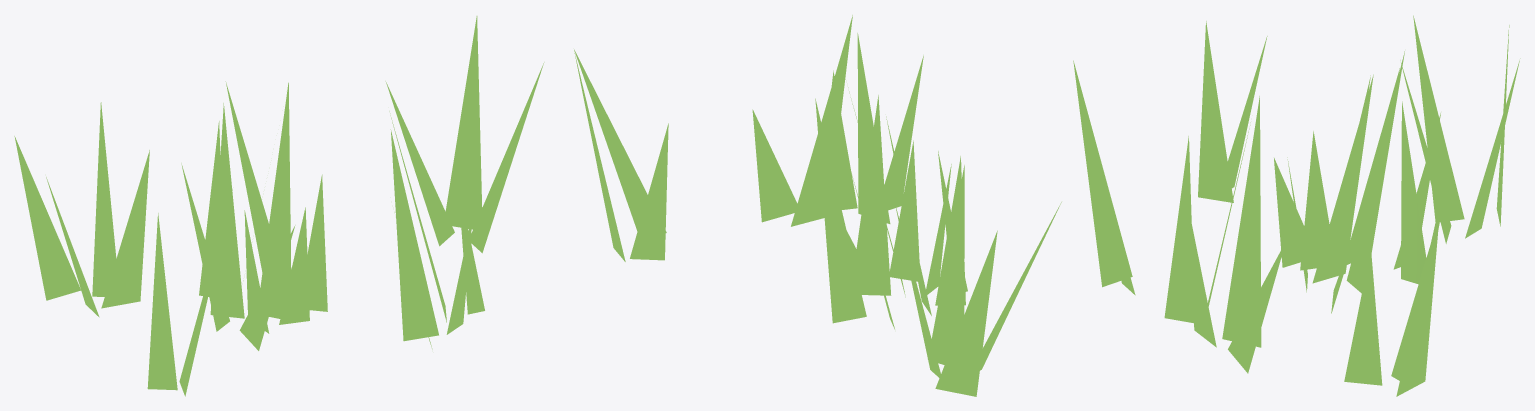
Rendered from Grass_c_TwoS_07.fbx.
3 renders of one model, left to right at view 1: azimuth 30°, elevation 25°; view 2: azimuth 150°, elevation 25°; view 3: azimuth 270°, elevation 25°, orthographic. The views are drawn at different scales.
Visible parts, largest first — view 1: Grass_c_TwoS_07; view 2: Grass_c_TwoS_07; view 3: Grass_c_TwoS_07.
Part boxes in pixels (bbox=[...]): Grass_c_TwoS_07: bbox=[14, 16, 544, 396]; Grass_c_TwoS_07: bbox=[574, 15, 1135, 396]; Grass_c_TwoS_07: bbox=[1164, 15, 1520, 396].
Size of the model in its own units: 1.44 by 0.6418 by 0.8856.
